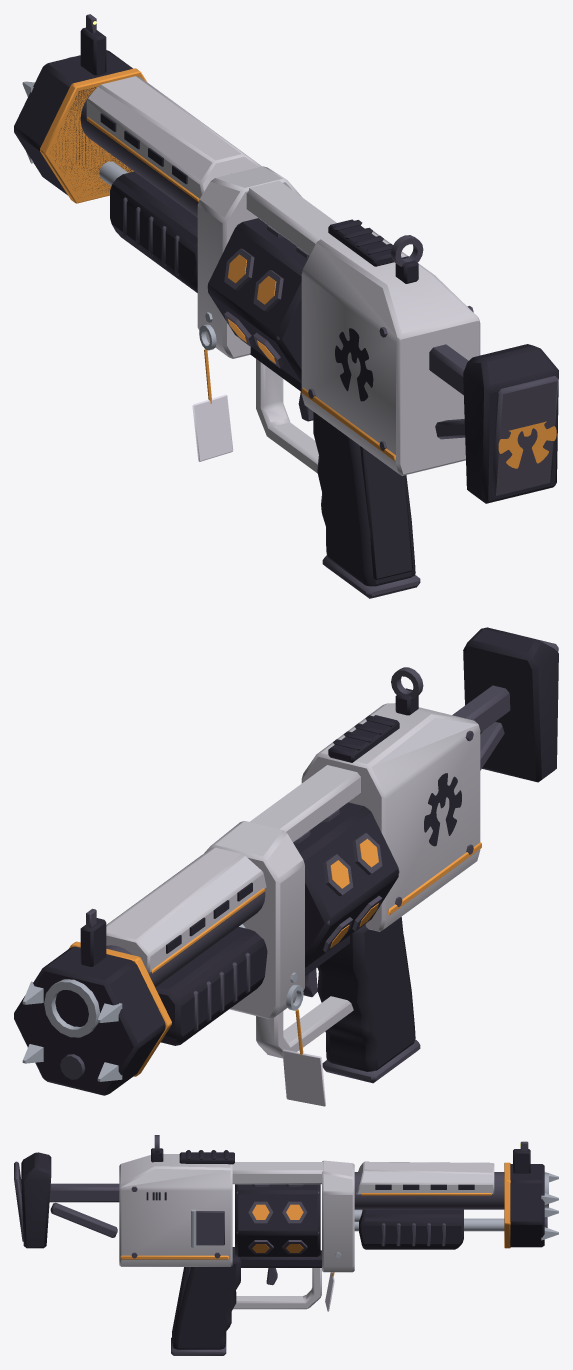
File: r41_suppressor.glb
3 renders of one model, top to bottom at view 1: azimuth 30°, elevation 25°; view 2: azimuth 150°, elevation 25°; view 3: azimuth 270°, elevation 25°, orthographic. The views are drawn at different scales.
Parts seen in each view (by area): view 1: r41_suppressor_light, r41_suppressor_shell, r41_suppressor_metal, cylinder, r41_suppressor_amber, pump, r41_suppressor_decals, r41_suppressor_ceramic, r41_suppressor_steel; view 2: r41_suppressor_light, r41_suppressor_shell, cylinder, pump, r41_suppressor_metal, r41_suppressor_steel, r41_suppressor_amber, r41_suppressor_ceramic, r41_suppressor_decals; view 3: r41_suppressor_light, r41_suppressor_shell, r41_suppressor_metal, cylinder, pump, r41_suppressor_steel, r41_suppressor_amber.
Part boxes in pixels (box(x1,y1,x2,y2)): r41_suppressor_light: box(86, 76, 480, 475); r41_suppressor_shell: box(14, 27, 558, 586); r41_suppressor_metal: box(80, 14, 558, 598); cylinder: box(207, 218, 309, 383); r41_suppressor_amber: box(40, 68, 395, 460); pump: box(110, 171, 197, 292); r41_suppressor_decals: box(335, 328, 556, 468); r41_suppressor_ceramic: box(192, 394, 233, 461); r41_suppressor_steel: box(22, 56, 216, 350); r41_suppressor_light: box(106, 703, 480, 1058); r41_suppressor_shell: box(14, 627, 558, 1095); cylinder: box(293, 802, 399, 967); pump: box(155, 927, 267, 1045); r41_suppressor_metal: box(60, 631, 558, 1083); r41_suppressor_steel: box(22, 924, 303, 1081); r41_suppressor_amber: box(69, 842, 481, 1076); r41_suppressor_ceramic: box(282, 1049, 325, 1106); r41_suppressor_decals: box(424, 773, 461, 846); r41_suppressor_light: box(119, 1154, 494, 1309); r41_suppressor_shell: box(21, 1148, 544, 1349); r41_suppressor_metal: box(14, 1135, 547, 1355); cylinder: box(235, 1184, 320, 1256); pump: box(359, 1209, 463, 1249); r41_suppressor_steel: box(191, 1172, 558, 1257); r41_suppressor_amber: box(120, 1162, 510, 1277).
Bounding box in the file's own units: 0.0688 × 0.187 × 0.4333.
